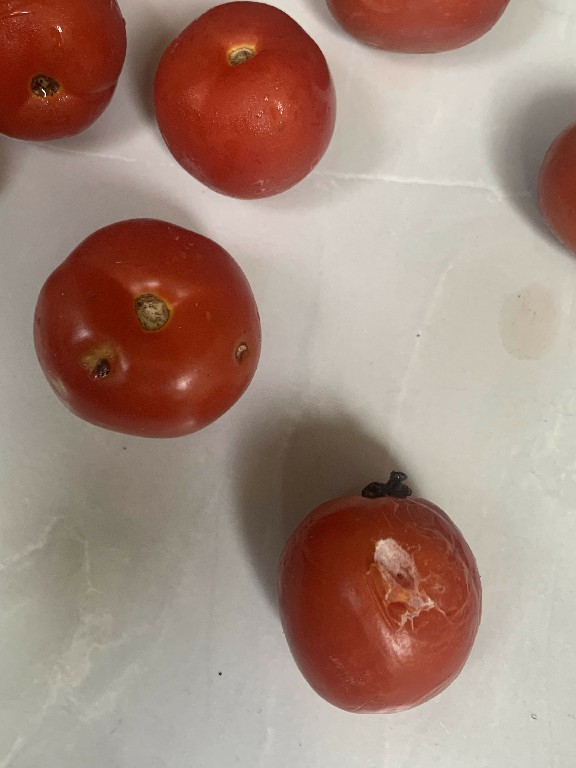NG: (17, 212, 275, 440), (270, 468, 493, 725)
OK: (148, 0, 340, 207), (0, 3, 123, 143)
